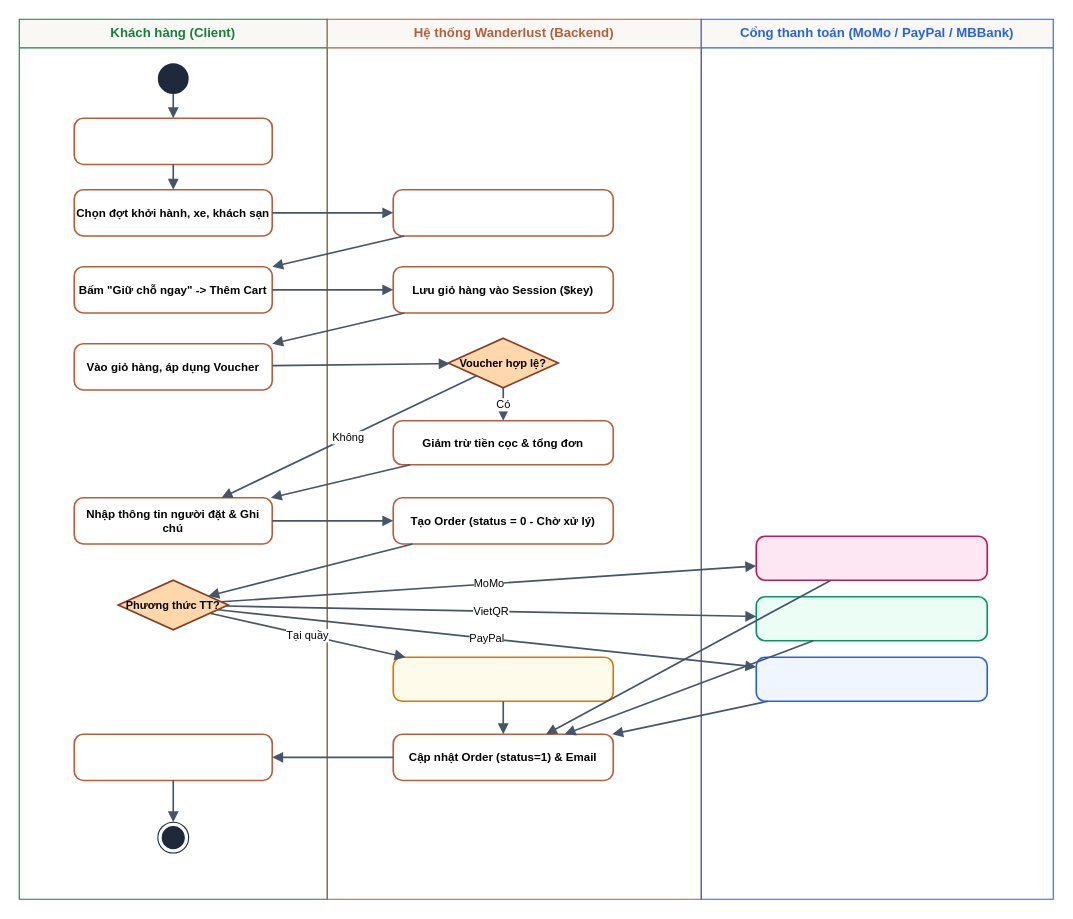
Image size: 1073x919. Some labels were removed from this diagram. The shapes that lost their labels are listed below. From the top down, each one's centre as x and y in pixels, then its label:
the point at 173,141: Xem chi tiết tour, slider & video
the point at 503,212: Tính giá động thời gian thực (Dynamic Live Pricing)
the point at 871,558: MoMo: Tạo mã QR thanh toán cọc
the point at 871,618: VietQR: Hiển thị STK MBBank
the point at 503,679: Tại quầy: Giữ chỗ 24h nộp cọc
the point at 871,679: PayPal: Chuyển hướng SDK USD
the point at 173,757: Xem trang ThankYou (Vé điện tử)
